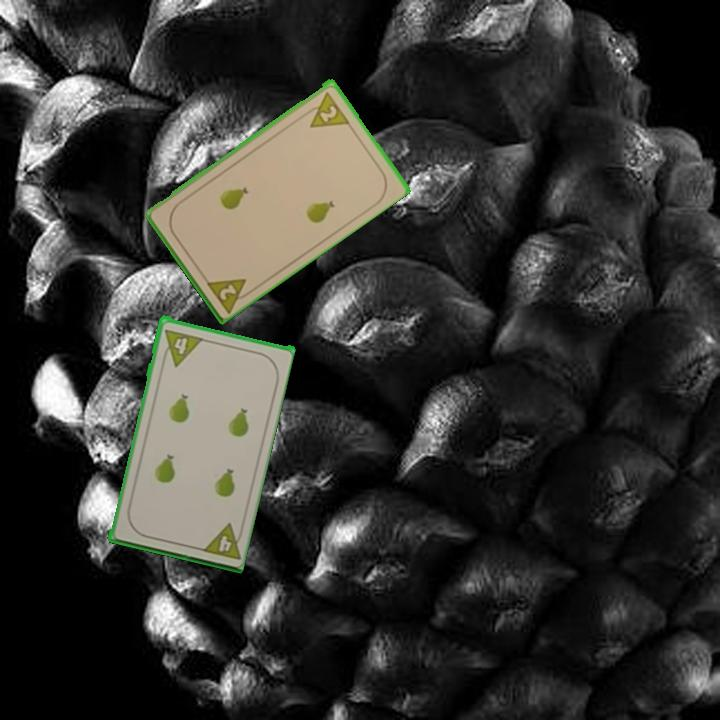2p: (300, 87, 352, 131), (216, 280, 240, 303)
4p: (197, 519, 247, 563), (158, 325, 204, 368)
